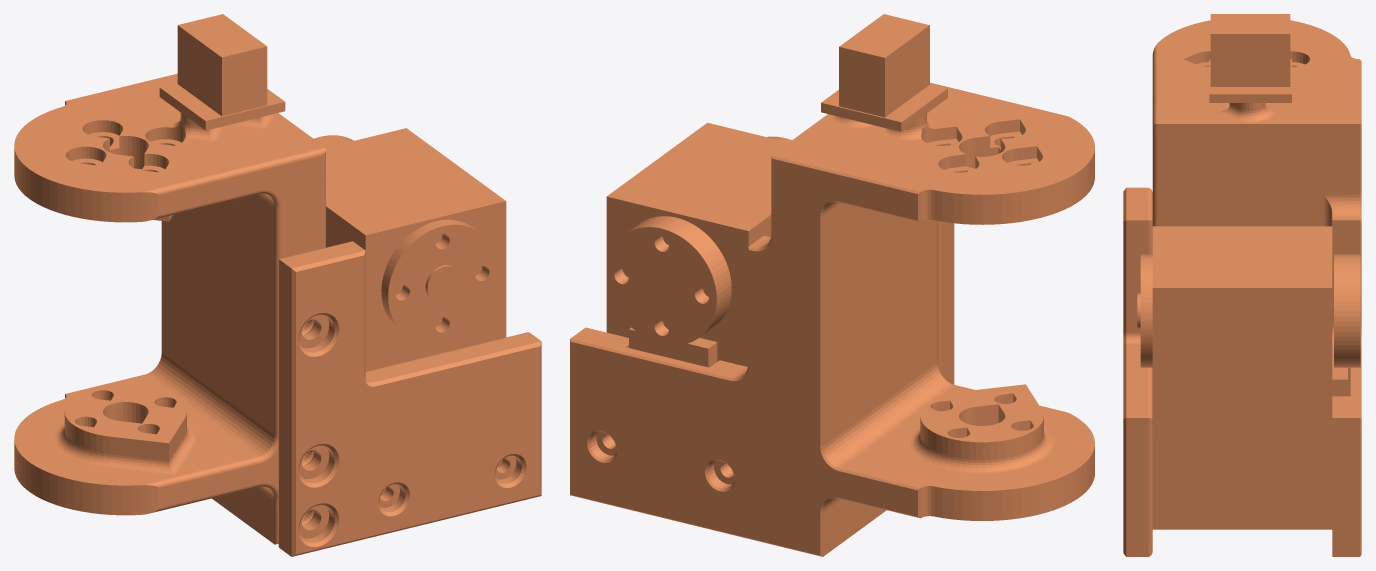
Rendered from coxa.glb.
3 renders of one model, left to right at view 1: azimuth 30°, elevation 25°; view 2: azimuth 150°, elevation 25°; view 3: azimuth 270°, elevation 25°, orthographic. The views are drawn at different scales.
Visible parts, largest first — view 1: coxa; view 2: coxa; view 3: coxa.
Boxes of the visible parts, bbox=[...] form: coxa: bbox=[14, 14, 541, 556]; coxa: bbox=[570, 14, 1094, 556]; coxa: bbox=[1123, 14, 1361, 556].
Bounding box in the file's own units: 0.078 × 0.0791 × 0.0404.
